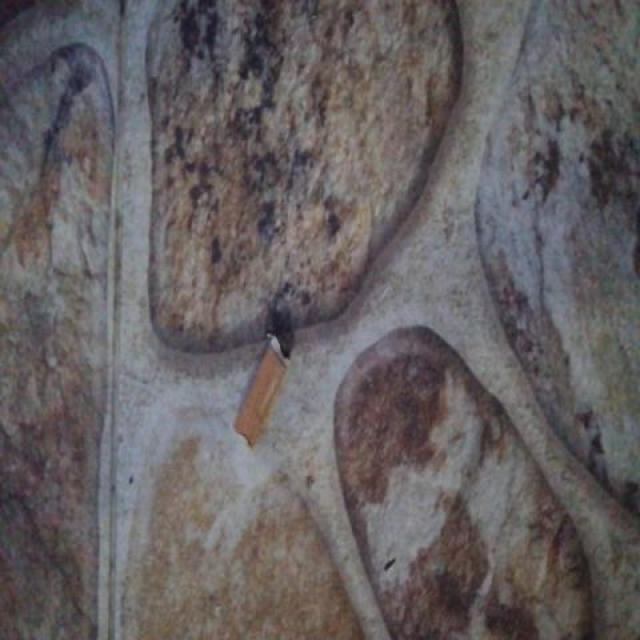non-organic waste: (233, 328, 295, 452)
